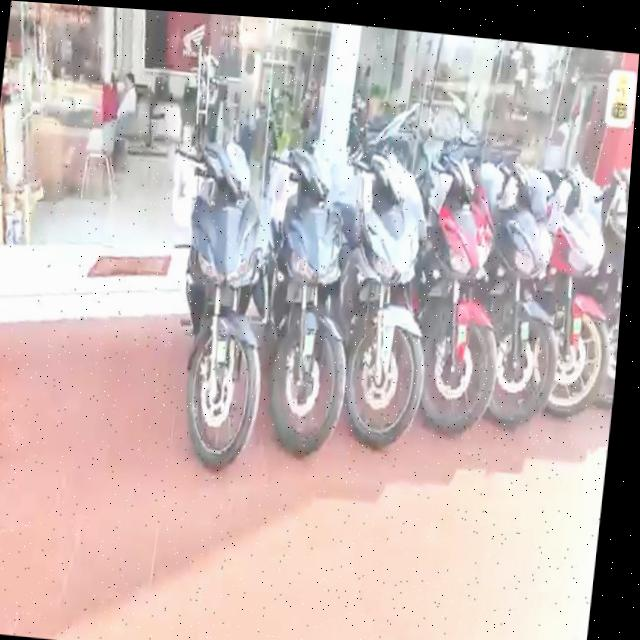motorcycle: (145, 135, 284, 474), (245, 156, 370, 467), (329, 147, 447, 461), (403, 156, 520, 445), (474, 164, 574, 433), (530, 167, 630, 424)
